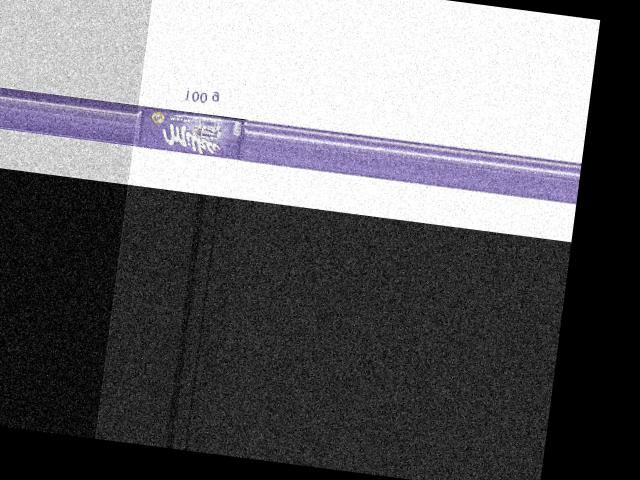chocolate: (136, 98, 250, 161)
